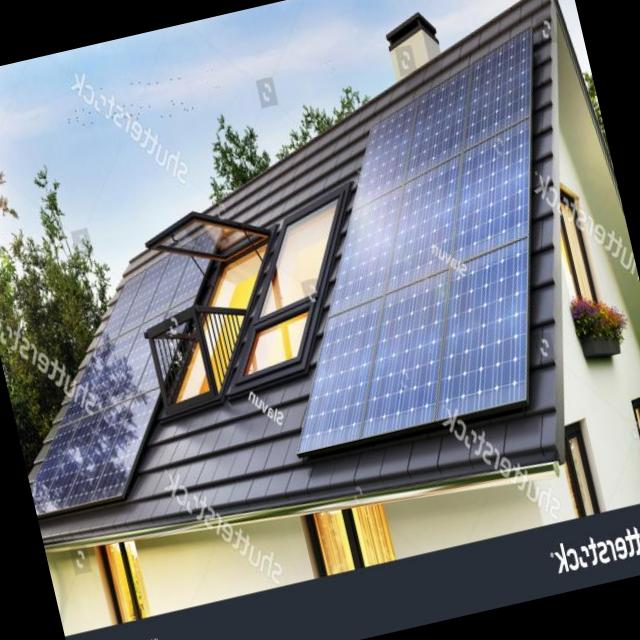no faulty: (436, 242, 527, 420), (360, 274, 449, 439), (295, 297, 385, 454), (456, 121, 528, 265), (384, 156, 459, 294), (329, 187, 402, 318), (61, 397, 133, 510), (91, 387, 159, 505), (465, 29, 528, 146), (405, 70, 469, 181), (37, 409, 104, 514), (353, 101, 415, 206), (32, 420, 78, 515), (119, 258, 168, 337), (96, 271, 143, 346)
